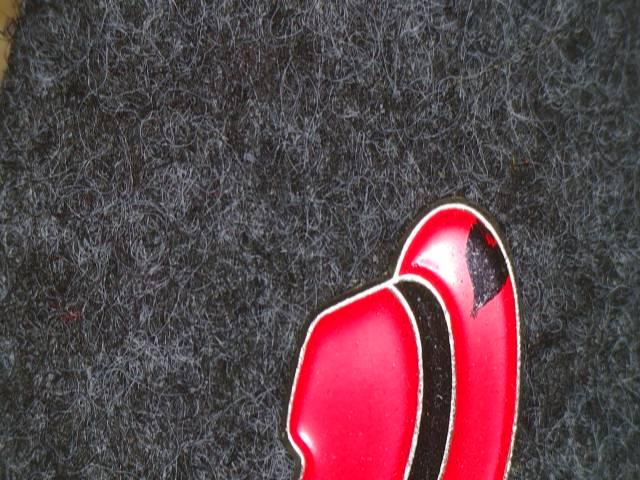Red-Hat: (254, 157, 565, 480)
Scratch: (454, 203, 525, 324)
